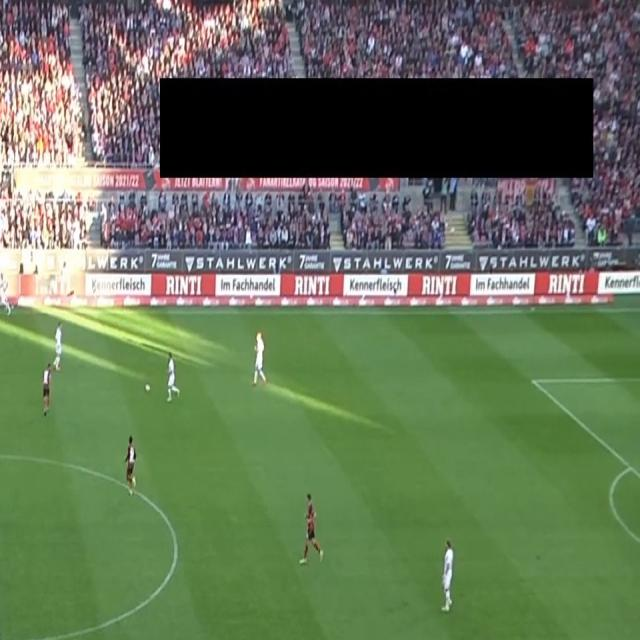ball: (144, 382, 151, 396)
